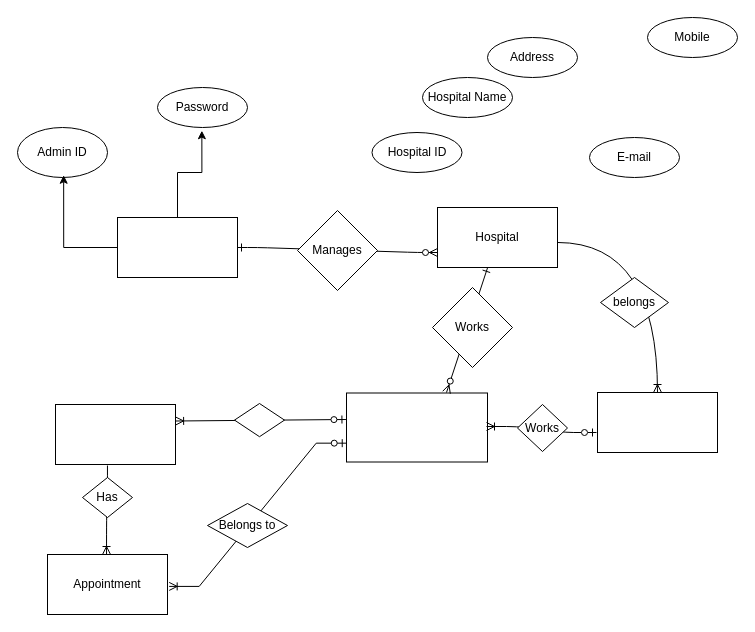
This 755x632 diagram has some shape labels left out. Here are the shapes that lost their labels. From the top down, the centre of each, then its label:
At (x=177, y=247): "Admin".
At (x=115, y=434): "Patient".
At (x=259, y=419): "Visits".
At (x=417, y=427): "Doctor".
At (x=657, y=422): "Department".
